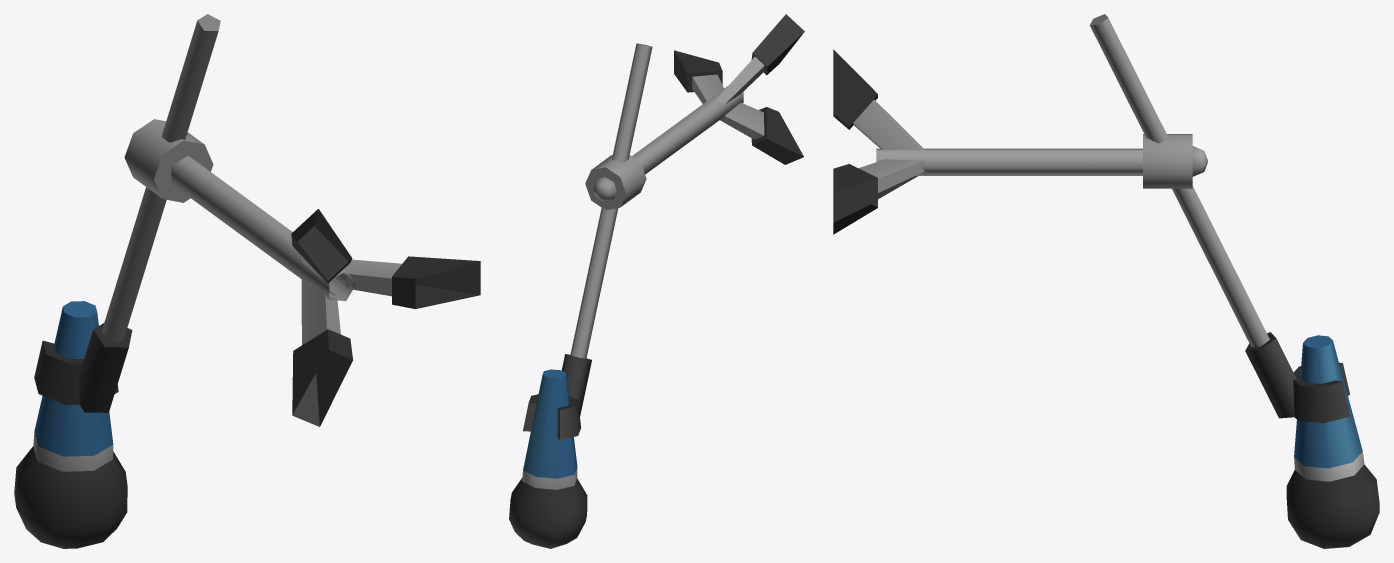
File: MicrophoneStandandMicrophone.fbx
3 renders of one model, left to right at view 1: azimuth 30°, elevation 25°; view 2: azimuth 150°, elevation 25°; view 3: azimuth 270°, elevation 25°, orthographic. The views are drawn at different scales.
Visible parts, largest first — view 1: MicrophoneStand, Microphone; view 2: MicrophoneStand, Microphone; view 3: MicrophoneStand, Microphone.
Boxes of the visible parts, <box> form: MicrophoneStand: <box>34,14,480,426</box>; Microphone: <box>14,301,127,548</box>; MicrophoneStand: <box>523,14,804,439</box>; Microphone: <box>509,369,587,548</box>; MicrophoneStand: <box>833,14,1349,423</box>; Microphone: <box>1286,335,1379,548</box>.
Bounding box in the file's own units: 22.85 × 71.94 × 67.5.
